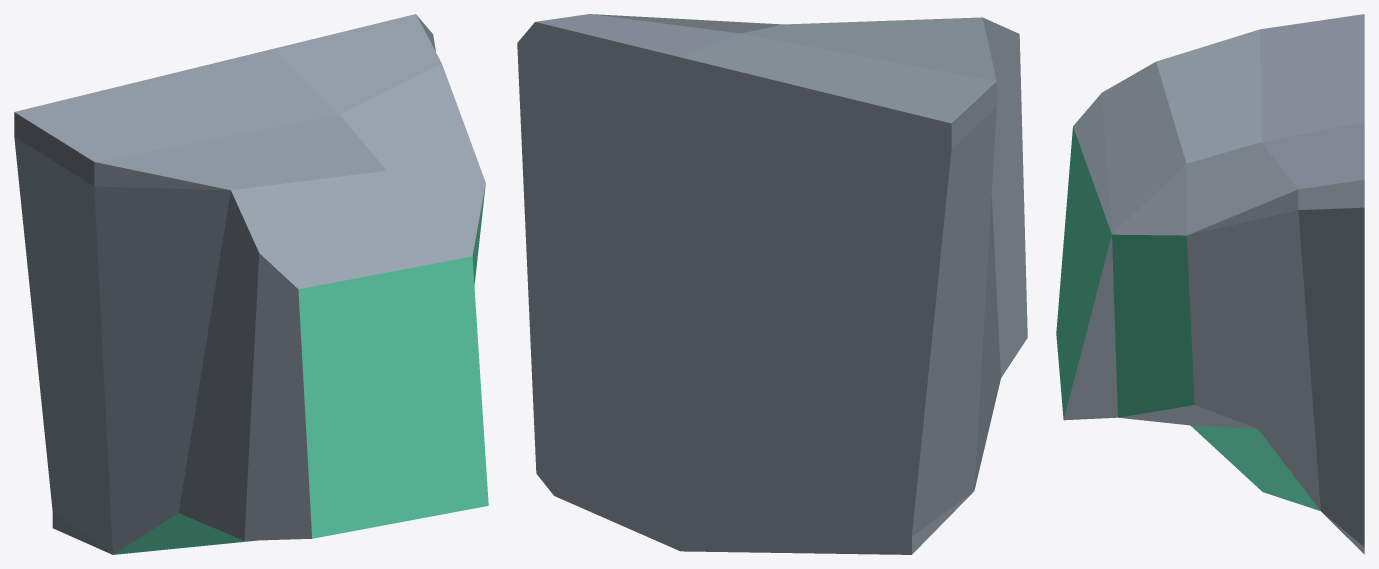
File: FlashyRock.glb
The picture shows the model from 3 angles, left to right: view 1: azimuth 30°, elevation 25°; view 2: azimuth 150°, elevation 25°; view 3: azimuth 270°, elevation 25°; orthographic projection. The views are drawn at different scales.
Parts seen in each view (by area): view 1: Rock_Moss_3; view 2: Rock_Moss_3; view 3: Rock_Moss_3.
Boxes of the visible parts, bbox=[...] form: Rock_Moss_3: bbox=[14, 14, 488, 554]; Rock_Moss_3: bbox=[517, 14, 1027, 554]; Rock_Moss_3: bbox=[1056, 14, 1364, 554].
Bounding box in the file's own units: 0.7384 × 0.8026 × 0.5567.
